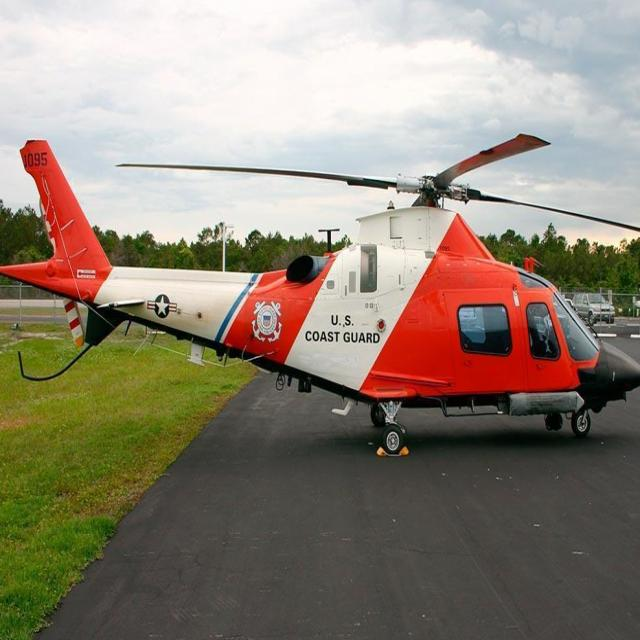helicopter: (1, 139, 640, 448)
